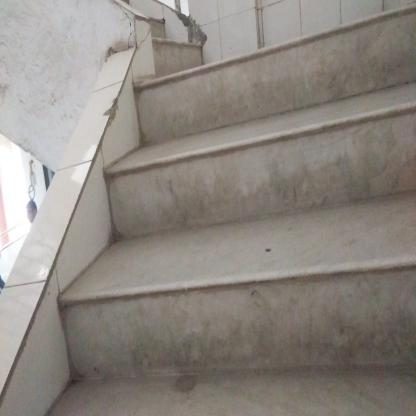stairs: (164, 63, 401, 406)
